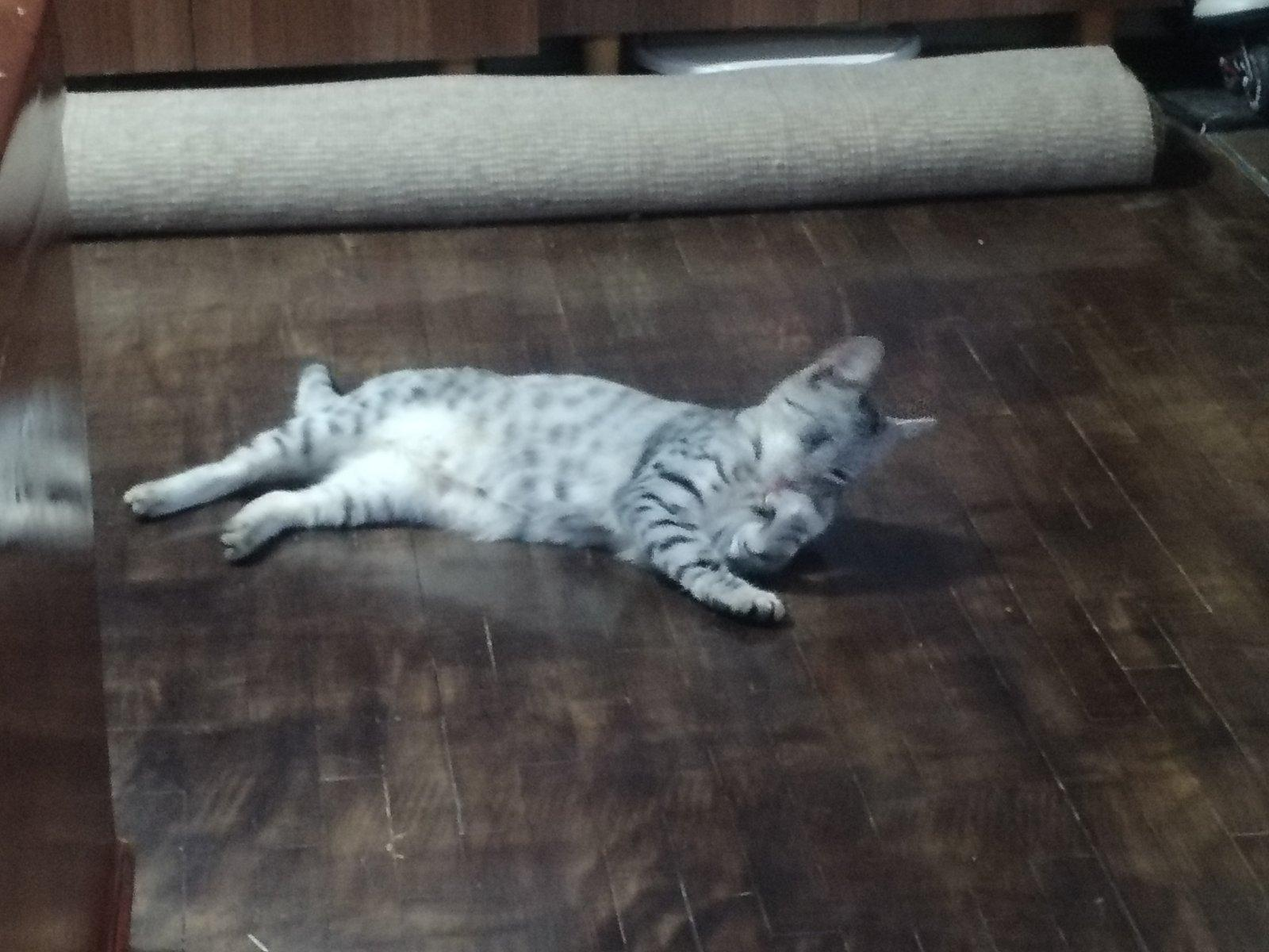macka: (111, 334, 946, 627)
